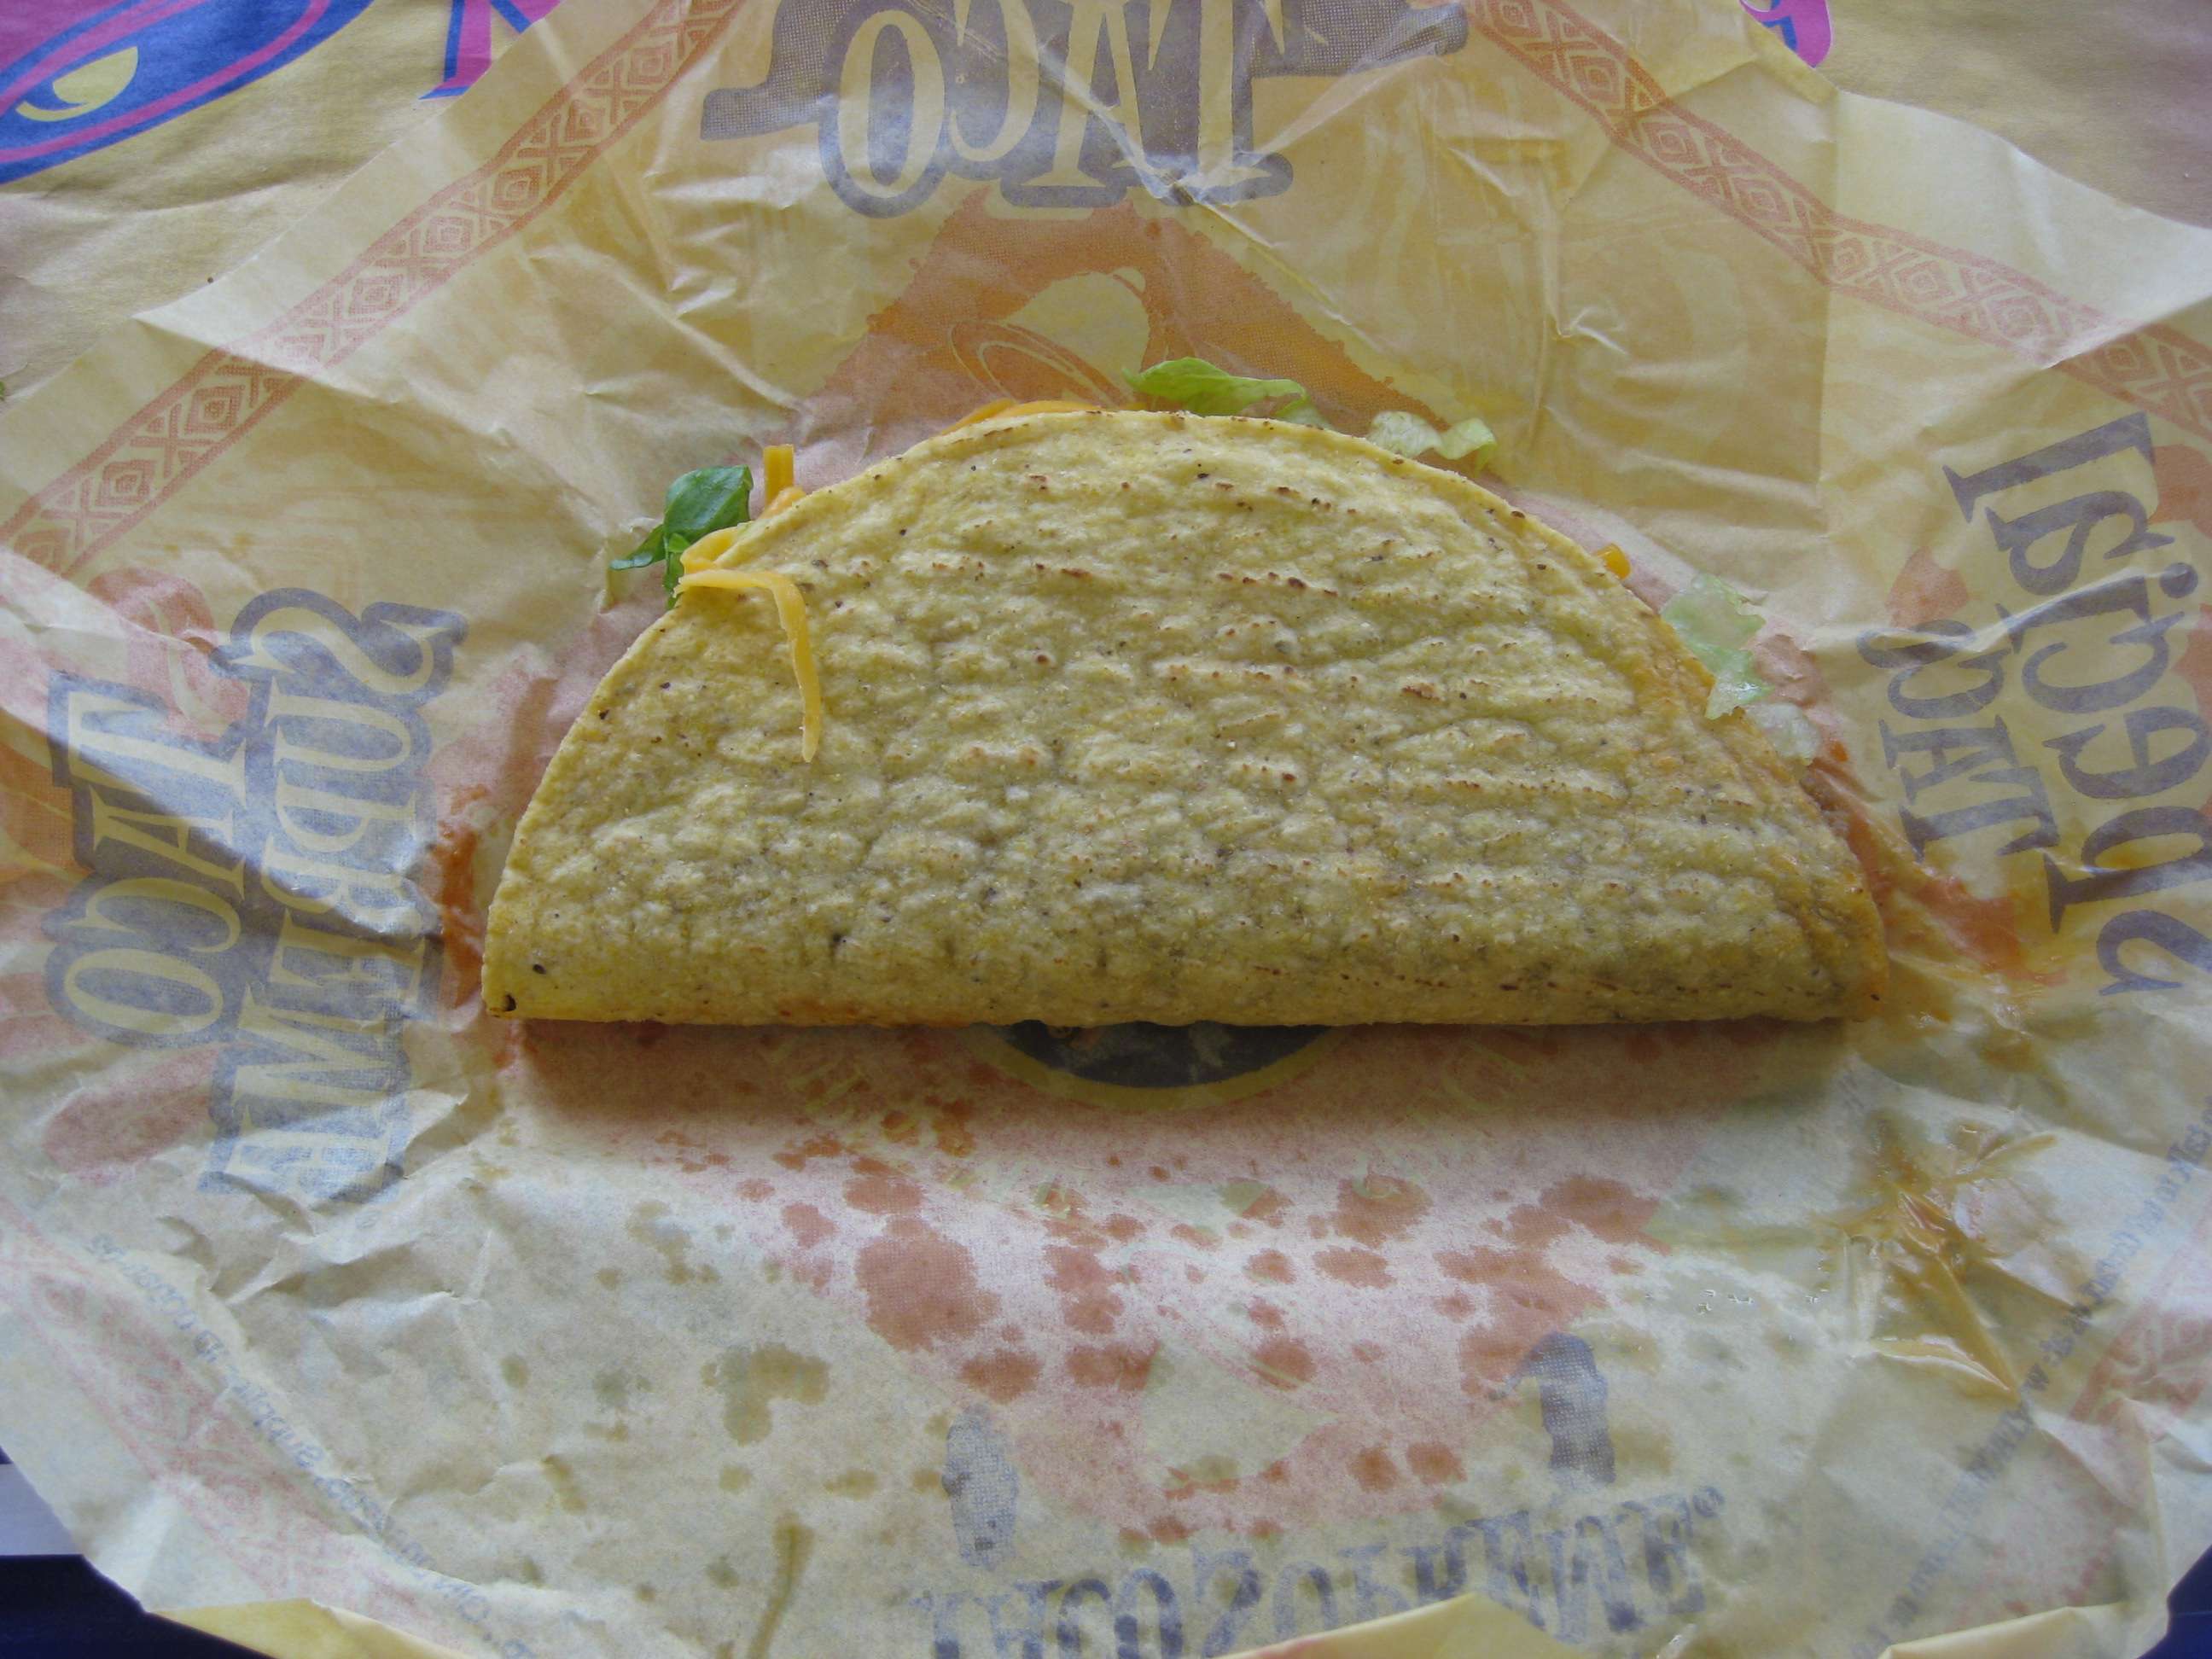taco: (428, 283, 2050, 1211)
